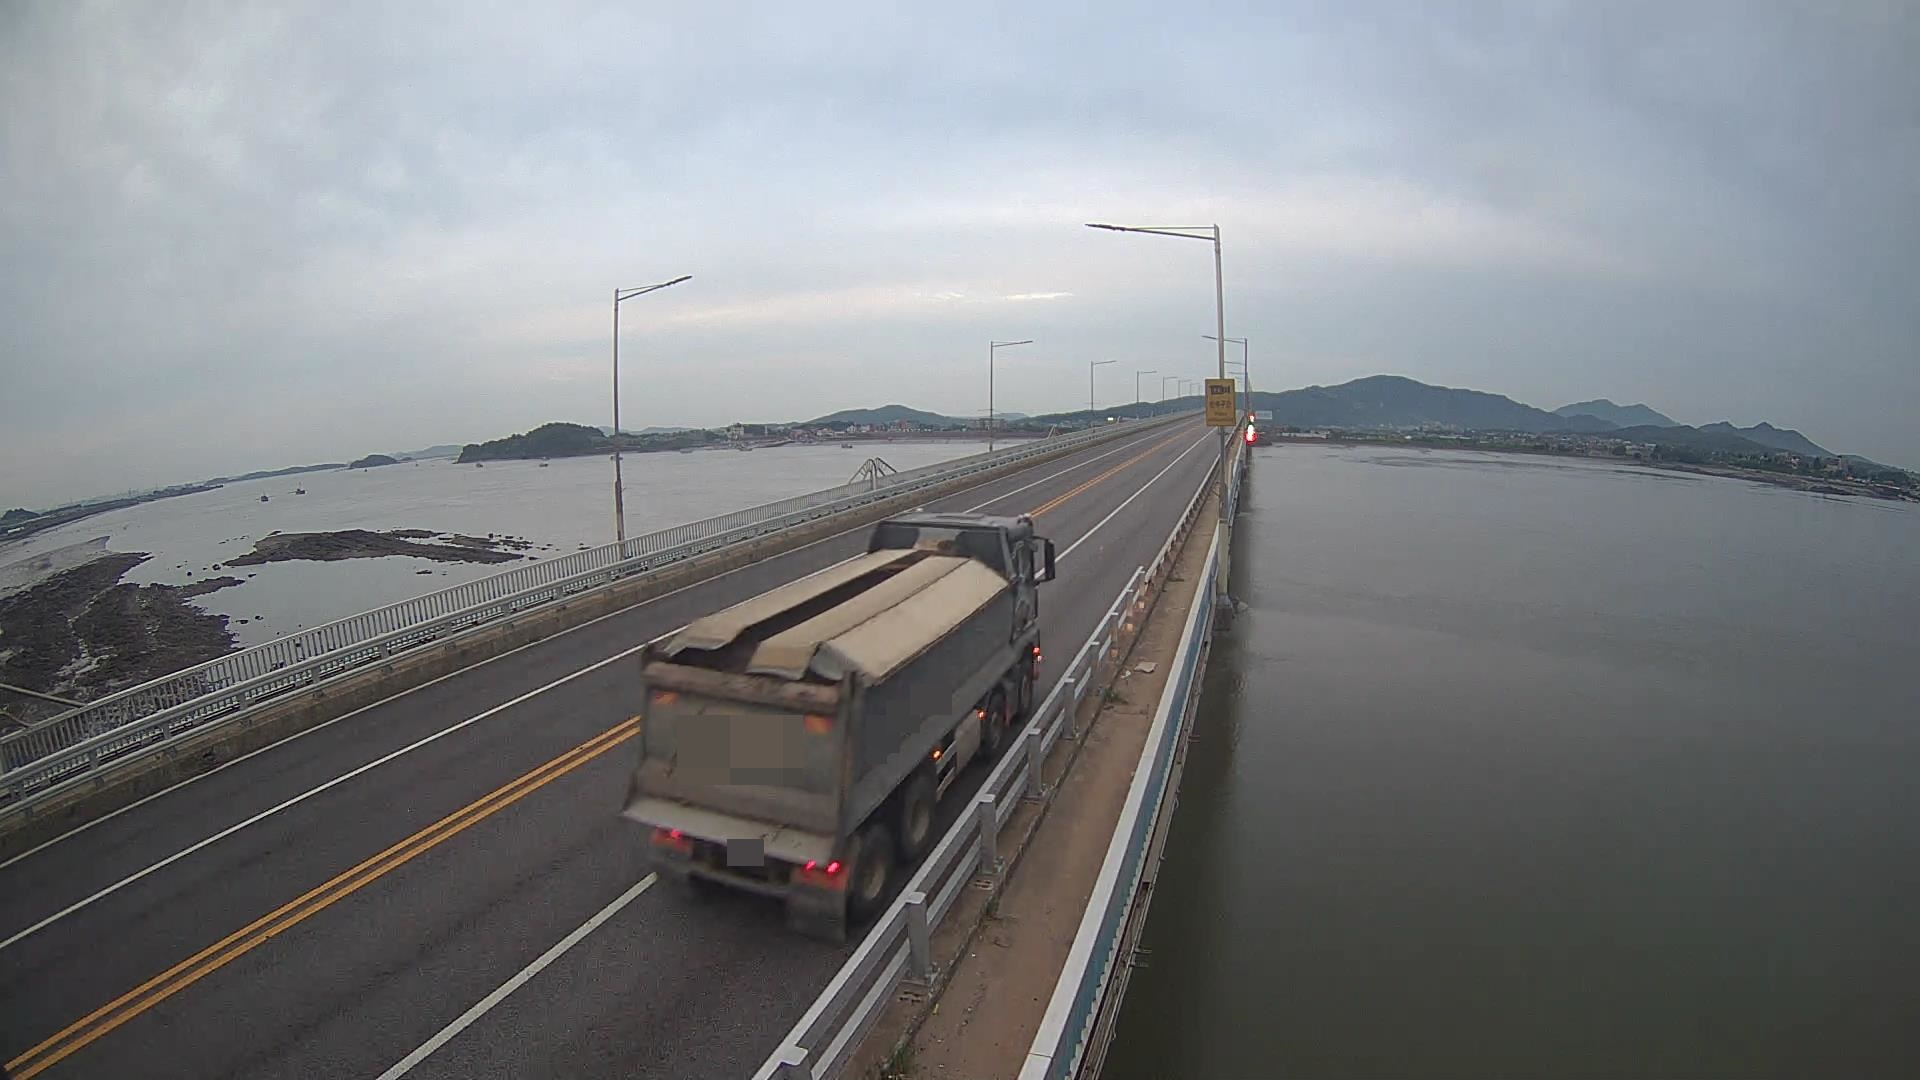정상차량: (618, 505, 1056, 946)
